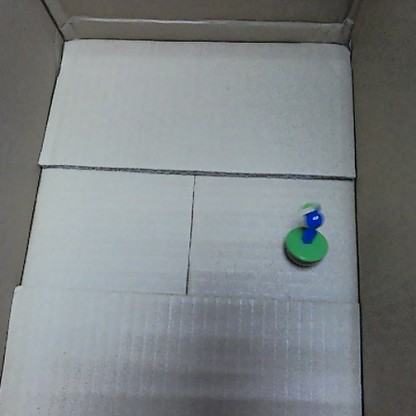leafairy: (282, 198, 333, 268)
